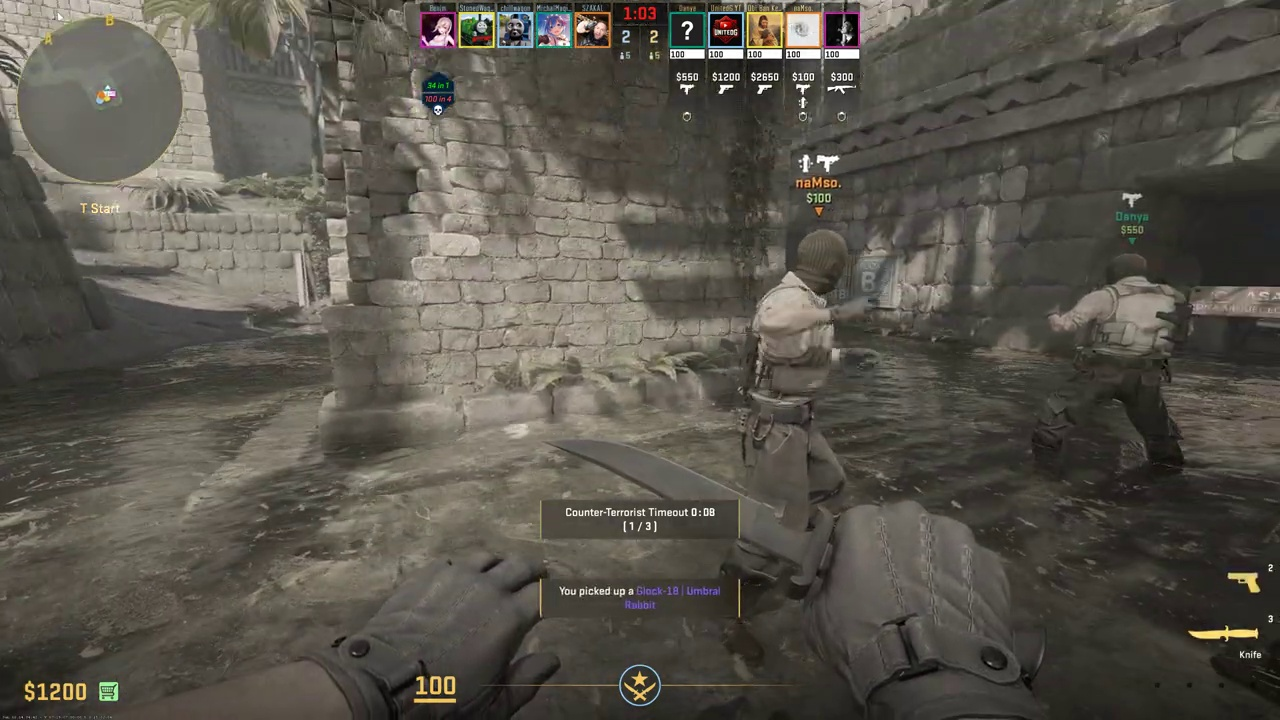Terrorist: (1050, 253, 1191, 483), (747, 229, 849, 525)
